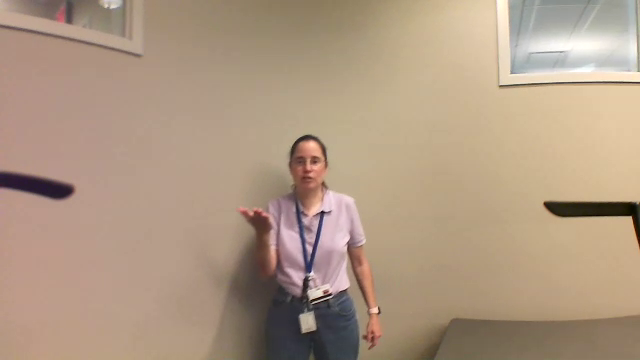land: (230, 193, 278, 237)
